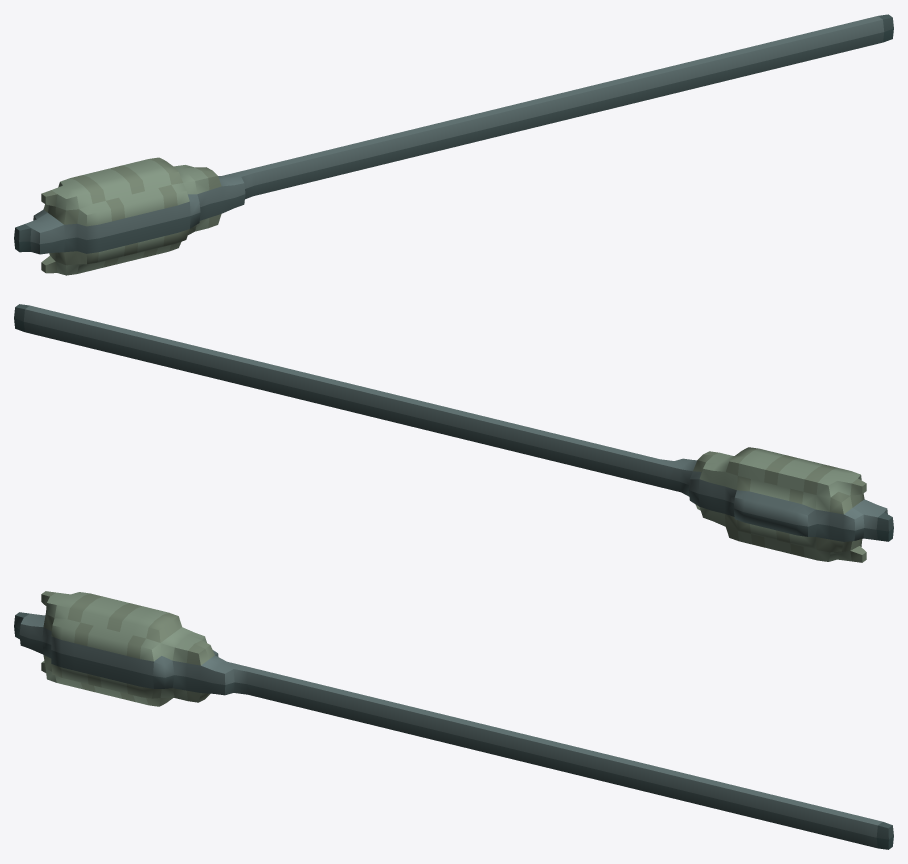
The model's file is Fight_716_2_15.obj.
The picture shows the model from 3 angles, top to bottom: view 1: azimuth 30°, elevation 25°; view 2: azimuth 150°, elevation 25°; view 3: azimuth 330°, elevation 25°; orthographic projection.
Bounding box in the file's own units: 6.67 × 0.6 × 0.5.
Materials: 1 (1 with a texture image).
